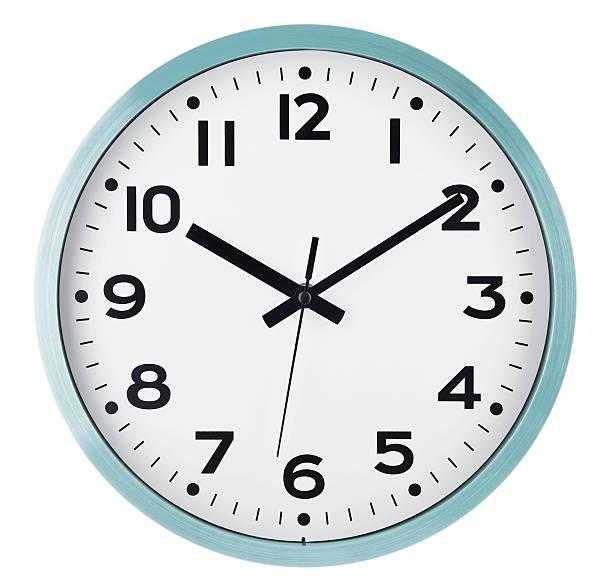clock: (44, 11, 590, 586)
